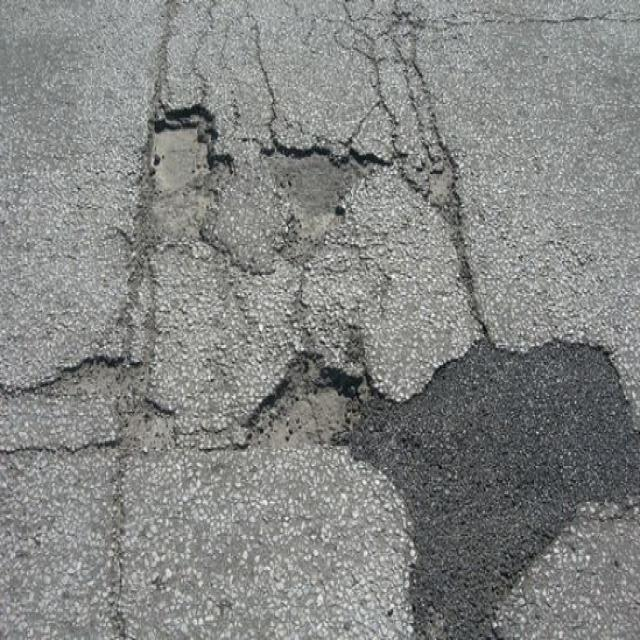Pothole: (248, 354, 364, 449), (259, 135, 389, 207), (141, 101, 231, 202)
